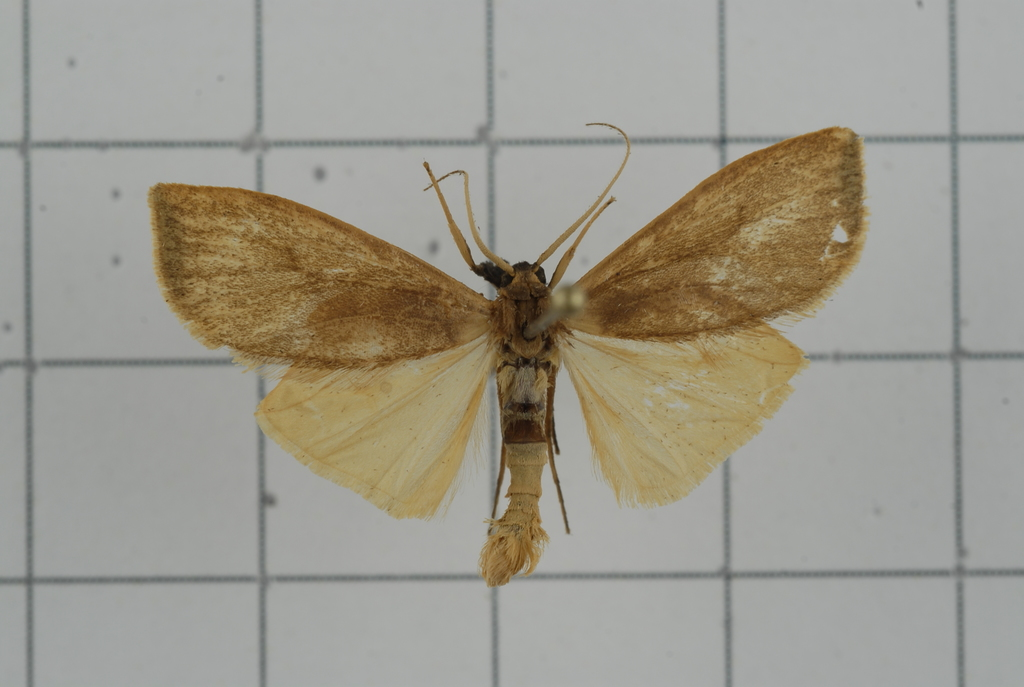Butterfly: (120, 117, 905, 591)
